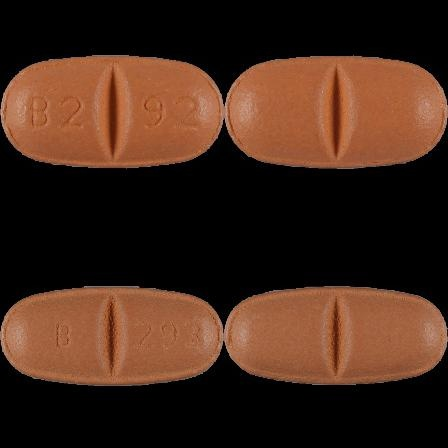60429-061: (0, 0, 224, 224)
